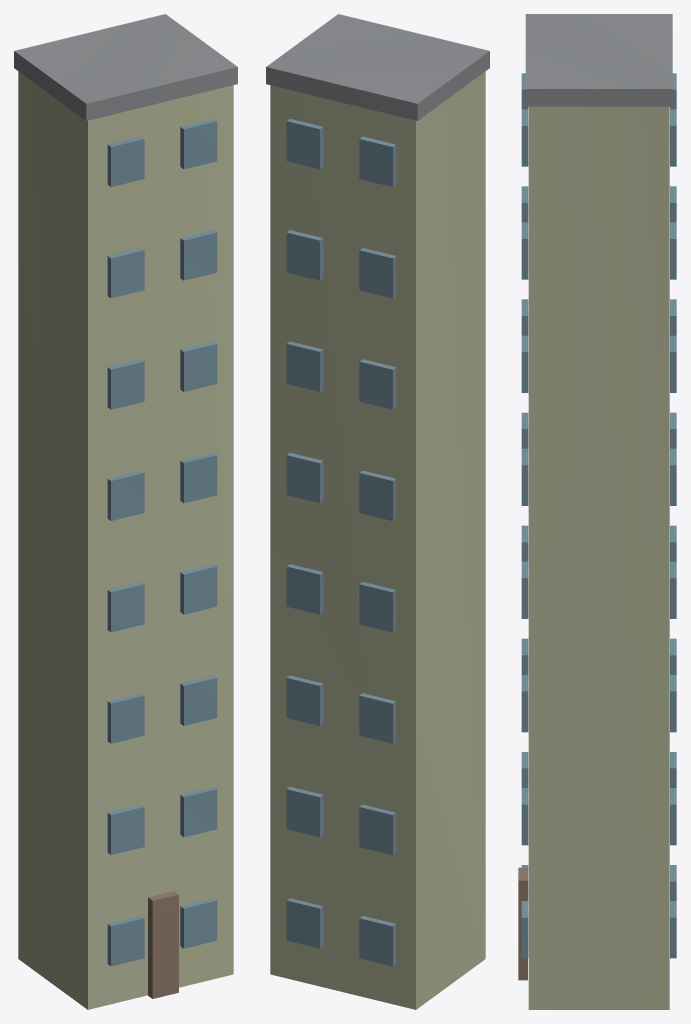
The model's file is lighthouse-01.glb.
3 renders of one model, left to right at view 1: azimuth 30°, elevation 25°; view 2: azimuth 150°, elevation 25°; view 3: azimuth 270°, elevation 25°, orthographic.
Visible parts, largest first — view 1: world; view 2: world; view 3: world.
Part boxes in pixels (x1,y1,x2,y2): world: (14, 14, 237, 1009); world: (266, 14, 489, 1009); world: (518, 14, 676, 1009).
Bounding box in the file's own units: 0.6451 × 3.7 × 0.5758.
